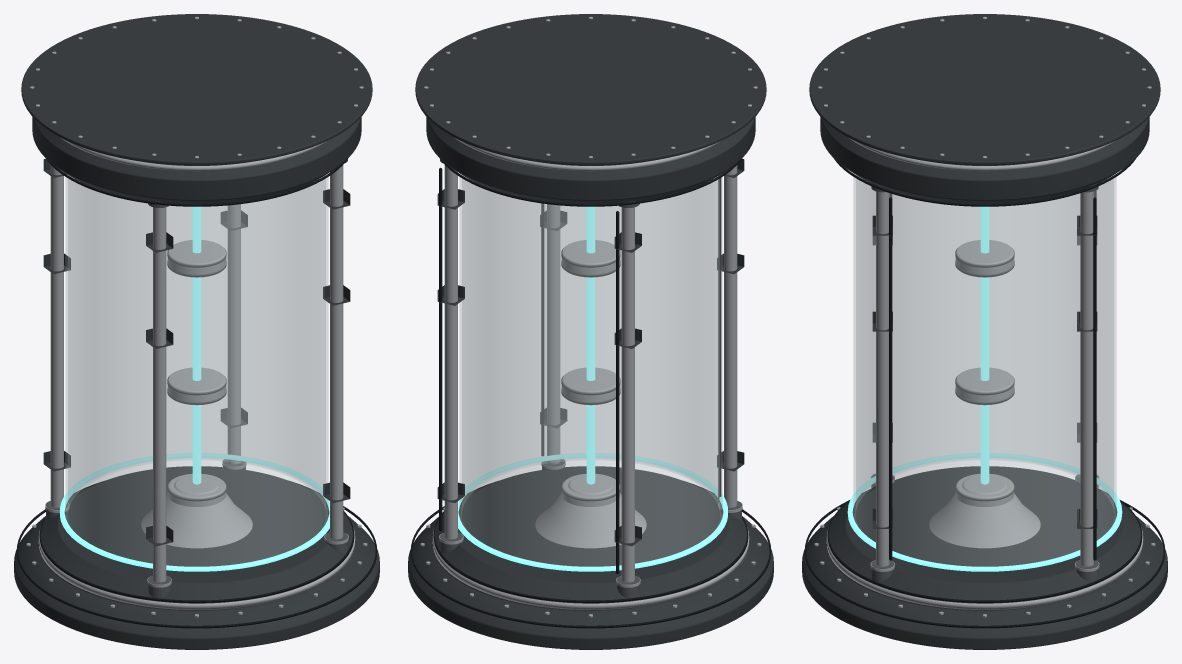
File: ZH_ENV_SIGNAL_ISOLATION_CHAMBER.fbx
3 views of the same model, side by side, from view 1: azimuth 30°, elevation 25°; view 2: azimuth 150°, elevation 25°; view 3: azimuth 270°, elevation 25° (orthographic).
Visible parts, largest first — view 1: Isolation | optical containment shell.001, V9 Isolation | tapered crown.001, V9 Isolation | layered base casting.001, Isolation | structural rib.006, Isolation | structural rib.007, Isolation | structural rib.005, Isolation | base electrode.001, Isolation | structural rib.004, Isolation | narrow light seal.002, V8 | static batch 5.001, V9 Isolation | machined base reveal.001, Isolation | electrode.001 (+9 smaller); view 2: Isolation | optical containment shell.001, V9 Isolation | tapered crown.001, V9 Isolation | layered base casting.001, Isolation | structural rib.005, Isolation | structural rib.004, Isolation | structural rib.006, Isolation | base electrode.001, Isolation | structural rib.007, Isolation | narrow light seal.002, V8 | static batch 5.001, V9 Isolation | machined base reveal.001, Isolation | electrode.001 (+13 smaller); view 3: Isolation | optical containment shell.001, V9 Isolation | tapered crown.001, V9 Isolation | layered base casting.001, Isolation | structural rib.004, Isolation | base electrode.001, Isolation | structural rib.007, Isolation | narrow light seal.002, V9 Isolation | machined base reveal.001, Isolation | electrode.001, V7 Isolation | machined circumferential seam.004, Isolation | electrode collar.006, Isolation | electrode collar.005 (+9 smaller).
Part boxes in pixels (box(x1,y1,x2,y2)): Isolation | optical containment shell.001: box(65, 174, 328, 566); V9 Isolation | tapered crown.001: box(21, 14, 372, 204); V9 Isolation | layered base casting.001: box(14, 466, 379, 649); Isolation | structural rib.006: box(153, 207, 166, 582); Isolation | structural rib.007: box(330, 165, 343, 539); Isolation | structural rib.005: box(50, 165, 63, 507); Isolation | base electrode.001: box(141, 475, 252, 548); Isolation | structural rib.004: box(227, 204, 240, 464); Isolation | narrow light seal.002: box(60, 453, 329, 571); V8 | static batch 5.001: box(43, 158, 350, 546); V9 Isolation | machined base reveal.001: box(38, 527, 355, 609); Isolation | electrode.001: box(192, 206, 201, 484); Isolation | optical containment shell.001: box(459, 174, 722, 566); V9 Isolation | tapered crown.001: box(415, 14, 766, 204); V9 Isolation | layered base casting.001: box(408, 466, 773, 649); Isolation | structural rib.005: box(621, 207, 634, 582); Isolation | structural rib.004: box(444, 165, 457, 539); Isolation | structural rib.006: box(724, 165, 737, 507); Isolation | base electrode.001: box(535, 475, 646, 548); Isolation | structural rib.007: box(547, 204, 560, 464); Isolation | narrow light seal.002: box(458, 453, 727, 571); V8 | static batch 5.001: box(437, 158, 744, 546); V9 Isolation | machined base reveal.001: box(432, 527, 749, 609); Isolation | electrode.001: box(586, 206, 595, 484); Isolation | optical containment shell.001: box(853, 174, 1116, 566); V9 Isolation | tapered crown.001: box(809, 14, 1160, 204); V9 Isolation | layered base casting.001: box(802, 466, 1167, 649); Isolation | structural rib.004: box(1080, 191, 1093, 566); Isolation | base electrode.001: box(929, 475, 1040, 548); Isolation | structural rib.007: box(876, 191, 889, 566); Isolation | narrow light seal.002: box(847, 453, 1122, 571); V9 Isolation | machined base reveal.001: box(826, 527, 1143, 609); Isolation | electrode.001: box(980, 206, 989, 484); V7 Isolation | machined circumferential seam.004: box(804, 500, 1165, 628); Isolation | electrode collar.006: box(955, 240, 1014, 277); Isolation | electrode collar.005: box(955, 367, 1014, 405).
Bounding box in the file's own units: 2 × 2.96 × 2.
